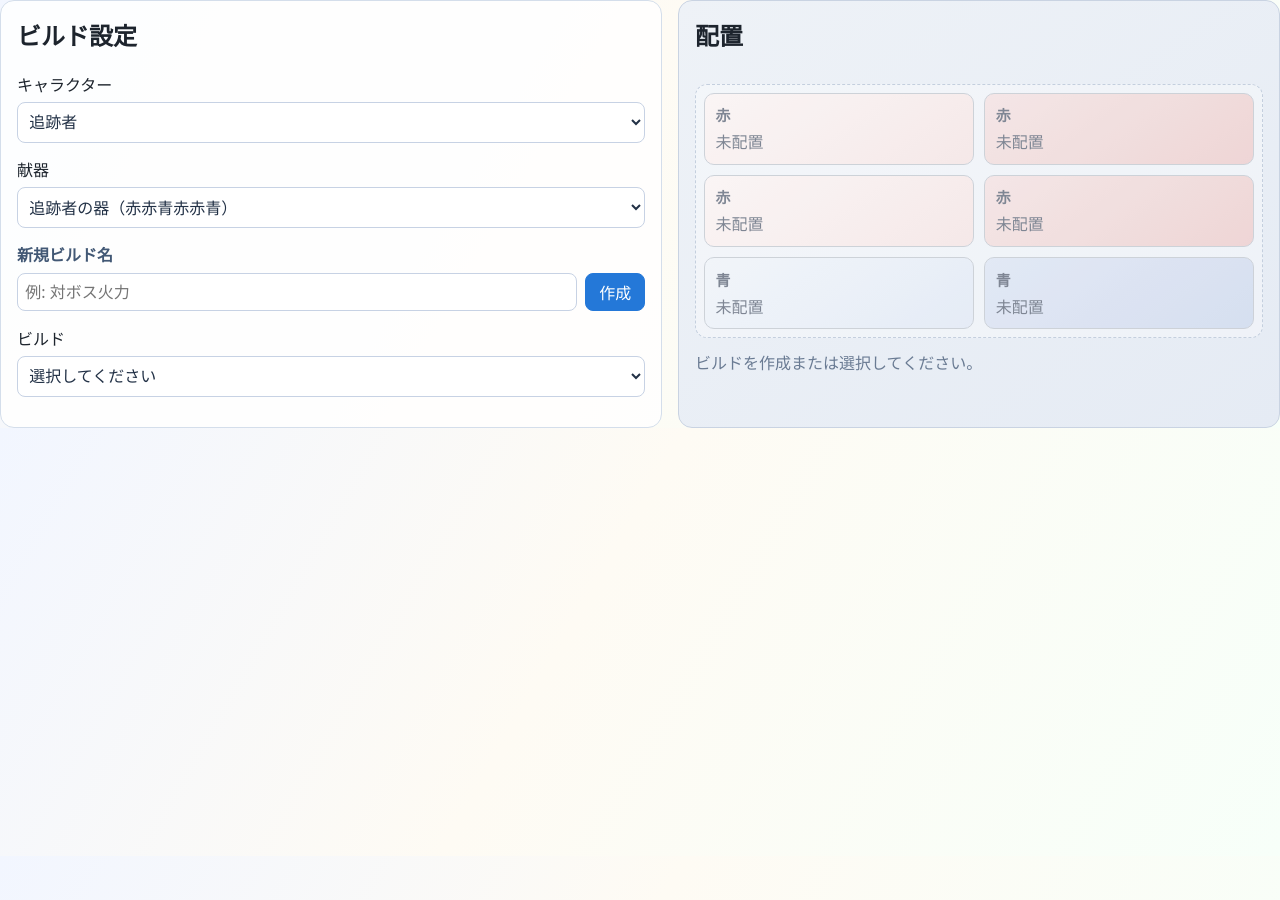
Test: LoadoutTab filtering › prevents reusing the same relic in another slot
This screenshot has width=1280, height=900.
Select "test" in the dropdown with test id "loadout-select" at point(331, 376), box [17, 356, 645, 397]
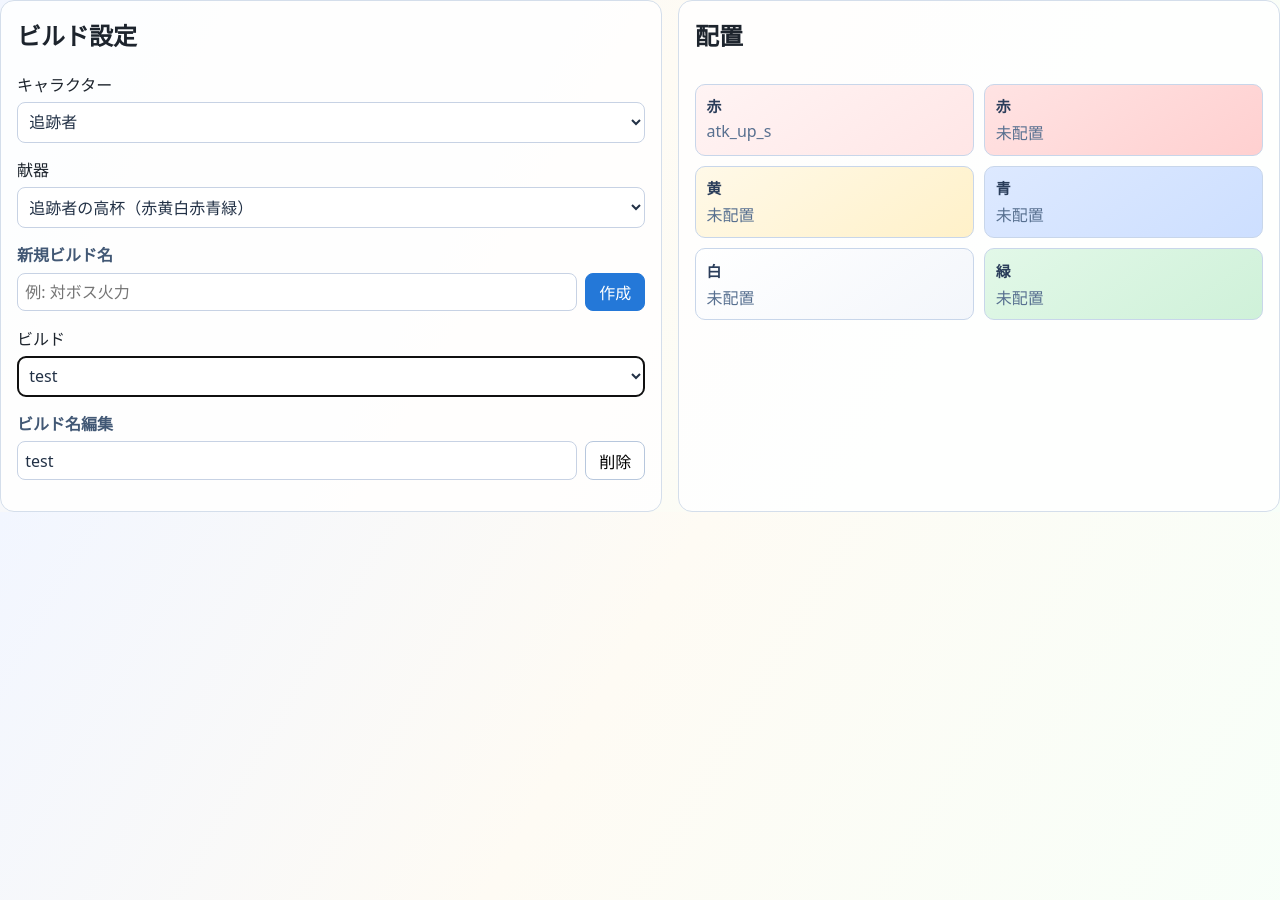
Click the button "白 未配置" at point(730, 298), box [695, 248, 974, 320]
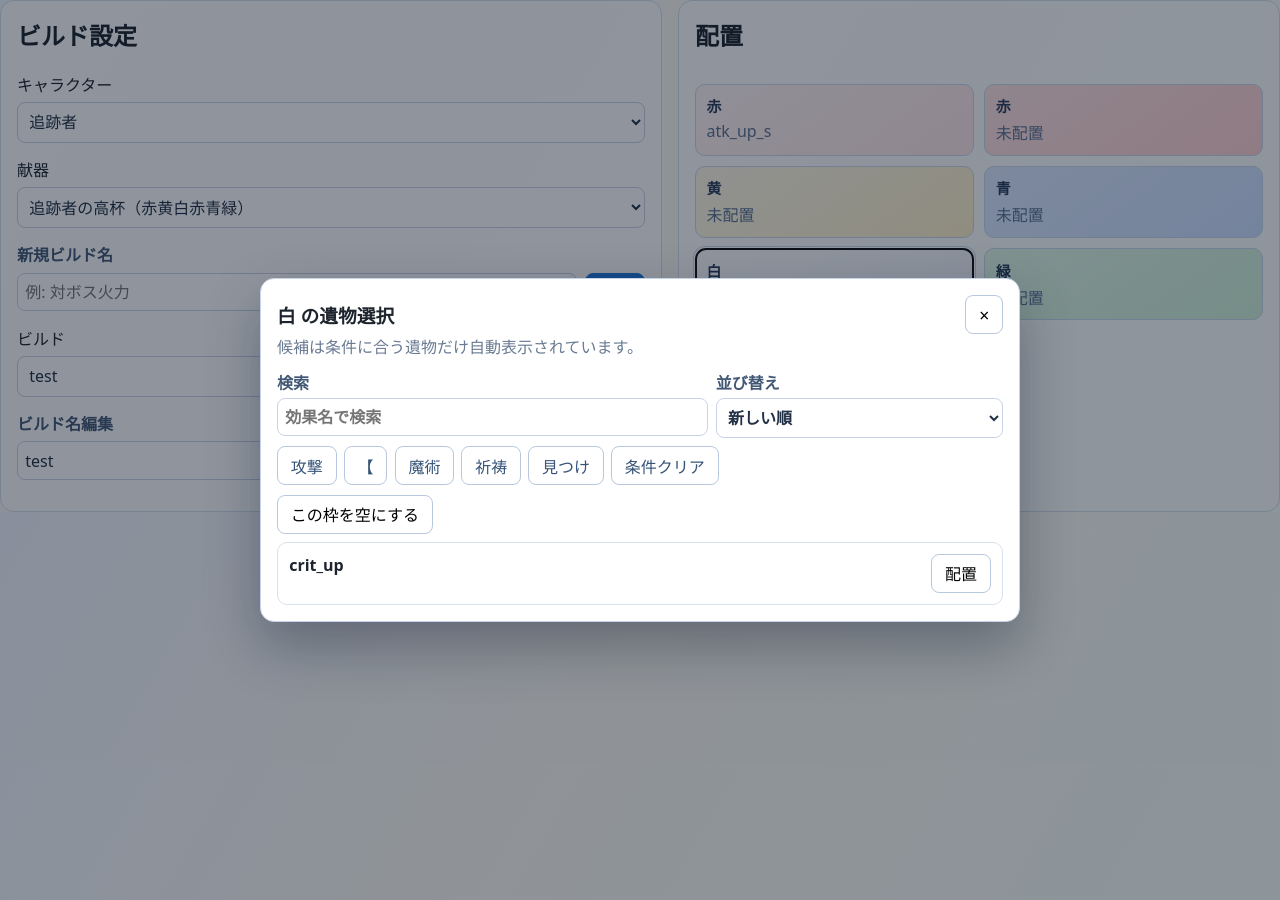
Check: the button with test id "candidate-normal-blue" is shown, box [931, 554, 991, 593]
